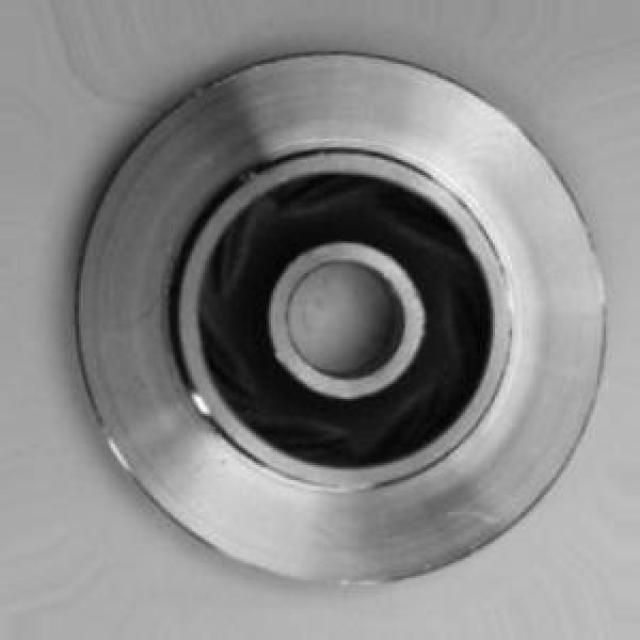Defect: (231, 163, 266, 188)
